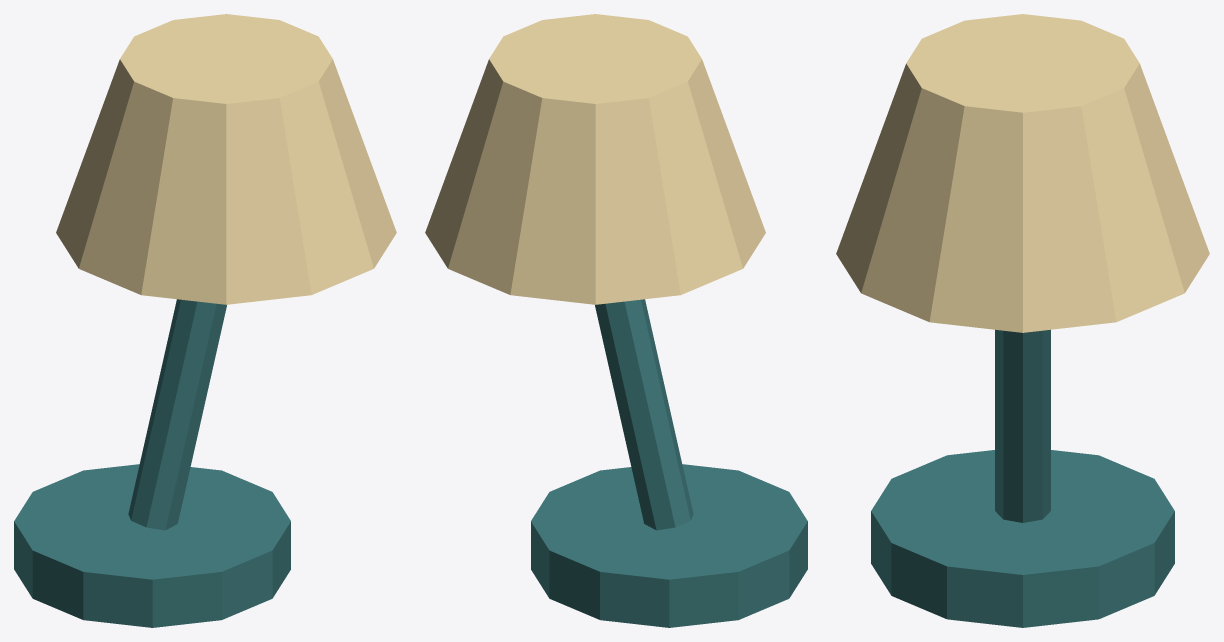
File: bedroom_lamp.glb
3 renders of one model, left to right at view 1: azimuth 30°, elevation 25°; view 2: azimuth 150°, elevation 25°; view 3: azimuth 270°, elevation 25°, orthographic. The views are drawn at different scales.
Parts seen in each view (by area): view 1: bedroom_lamp_Mesh; view 2: bedroom_lamp_Mesh; view 3: bedroom_lamp_Mesh.
Part boxes in pixels (x1,y1,x2,y2): bedroom_lamp_Mesh: [14, 14, 396, 627]; bedroom_lamp_Mesh: [425, 14, 807, 627]; bedroom_lamp_Mesh: [836, 14, 1209, 627].
Bounding box in the file's own units: 0.37 × 0.51 × 0.32.
